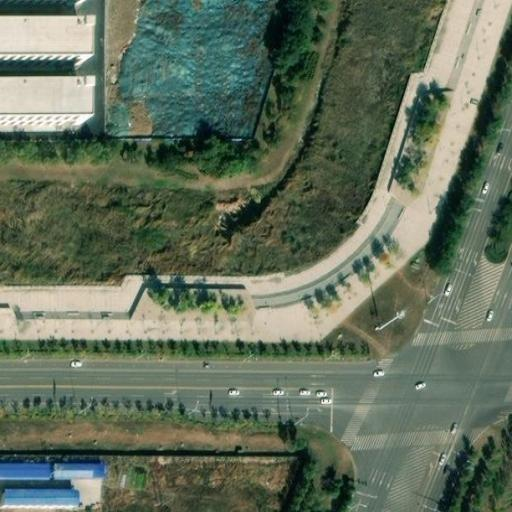building: (0, 85, 78, 123), (0, 486, 77, 506), (50, 459, 104, 478), (0, 460, 52, 478)
